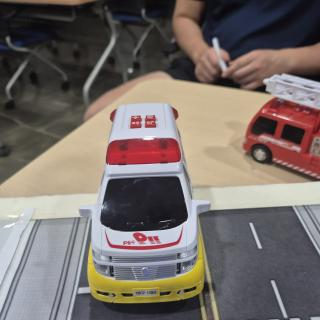Ambulance: (78, 103, 210, 303)
